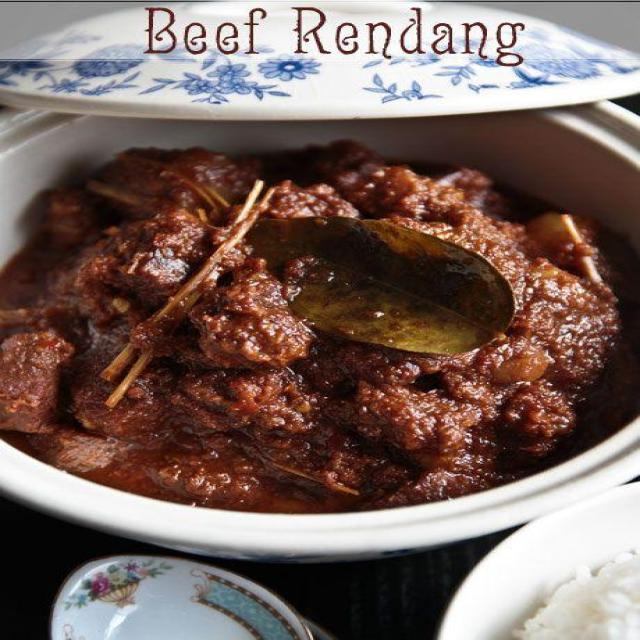Rendang: (0, 128, 640, 530)
